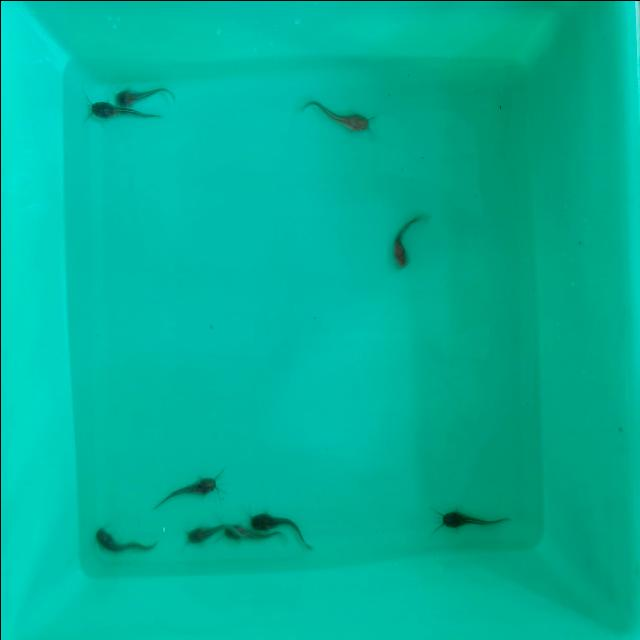lele: (145, 472, 219, 502), (300, 95, 364, 129), (388, 209, 424, 263), (438, 507, 511, 531), (250, 508, 314, 534), (118, 80, 176, 104), (89, 101, 152, 123), (95, 526, 151, 550), (186, 518, 223, 542), (224, 524, 269, 542)
